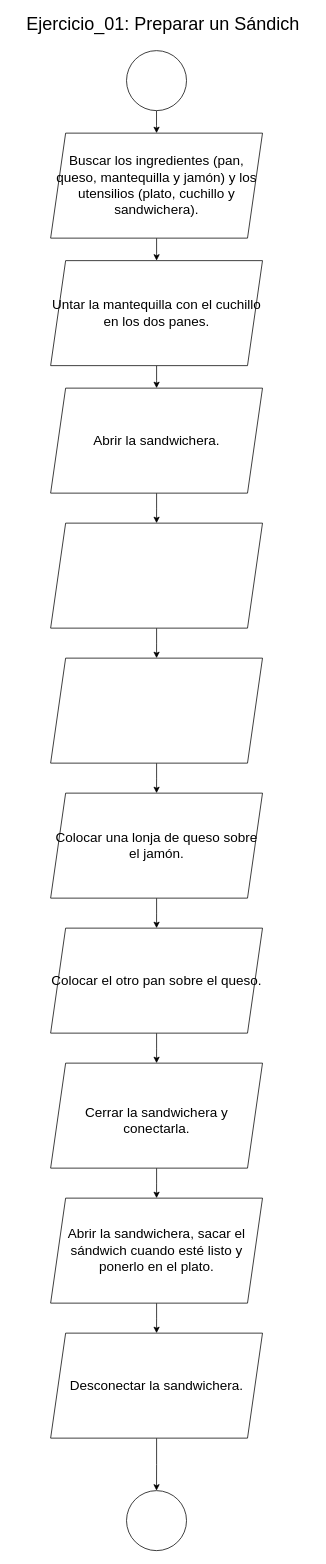
Some shapes in this 326 by 1564 pixel diagram are drawn without their labels. Each missing label, with the centre of its shape:
Colocar una lonja de jamón sobre el pan que está en la sandwichera.: pixel 156 710
Colocar uno de los panes untados de mantequilla en la sandwichera.: pixel 156 575
Fin: pixel 156 1520
Inicio: pixel 156 80
